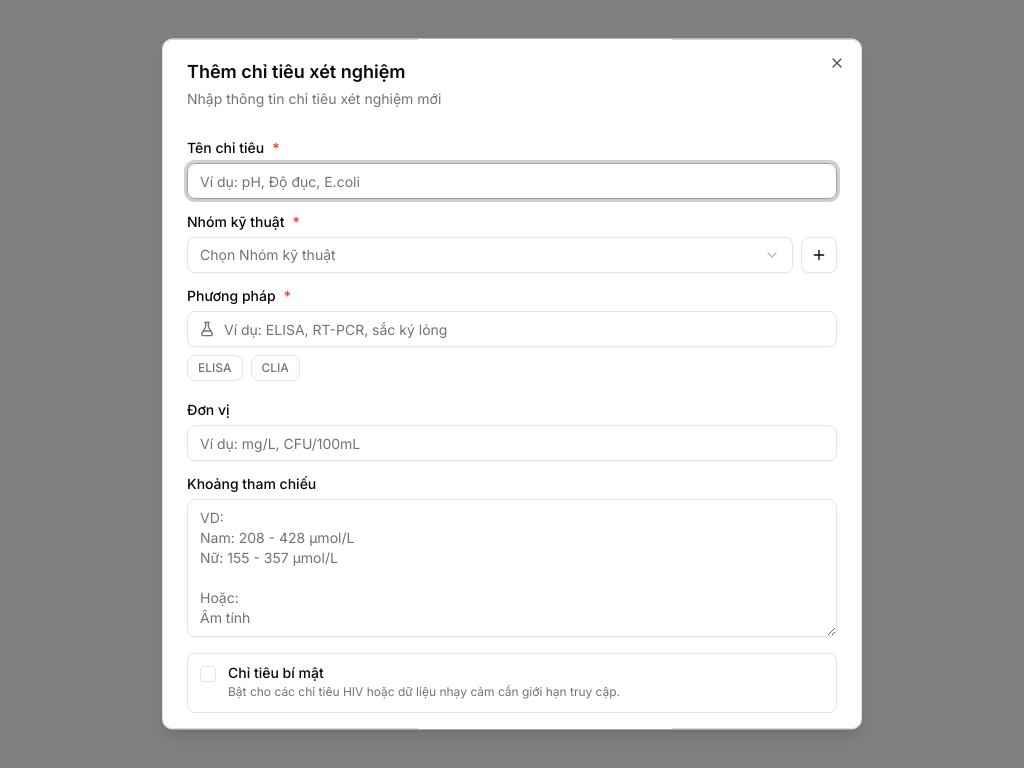
Scenario: AssayDefinitionDialog method entry › debounces method suggestion filtering while the manager types
Expected: the button "ELISA" is shown, [187,355,242,381]
Expected: the button "CLIA" is shown, [250,355,300,381]
Type "cli" into the field labelled "Phương pháp *" at (512, 329), box [187,311,837,347]
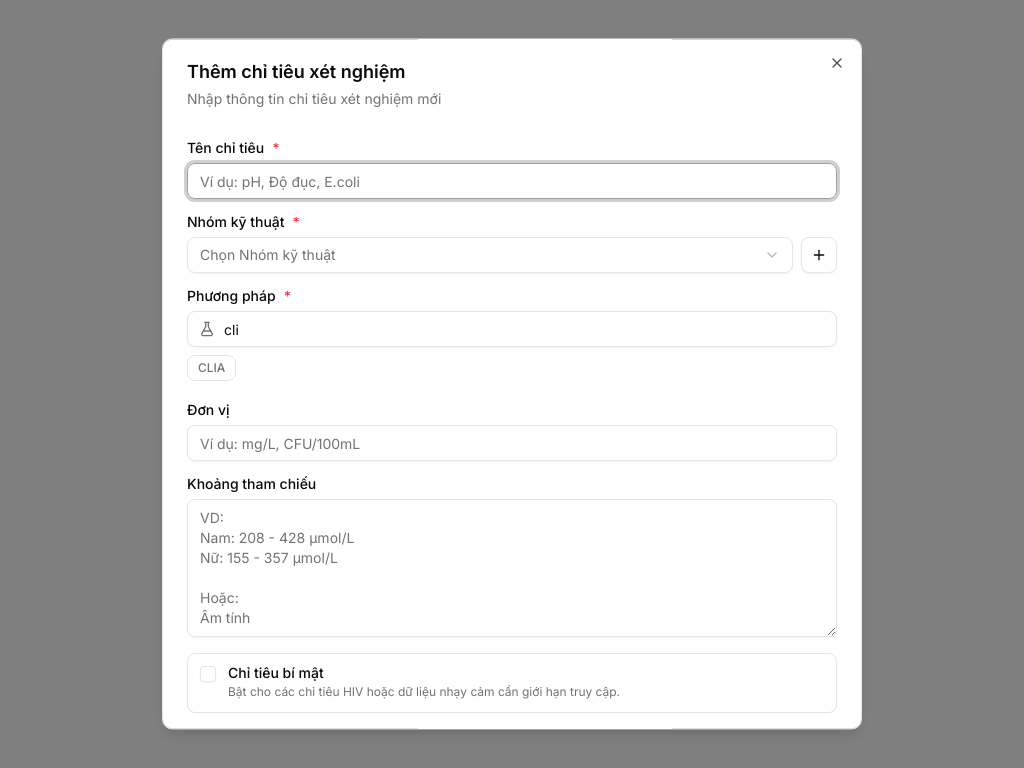
Expected: the button "CLIA" is shown, [187,355,236,381]
Expected: the button "ELISA" is gone
